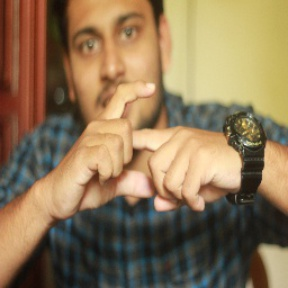E: (78, 75, 190, 207)
